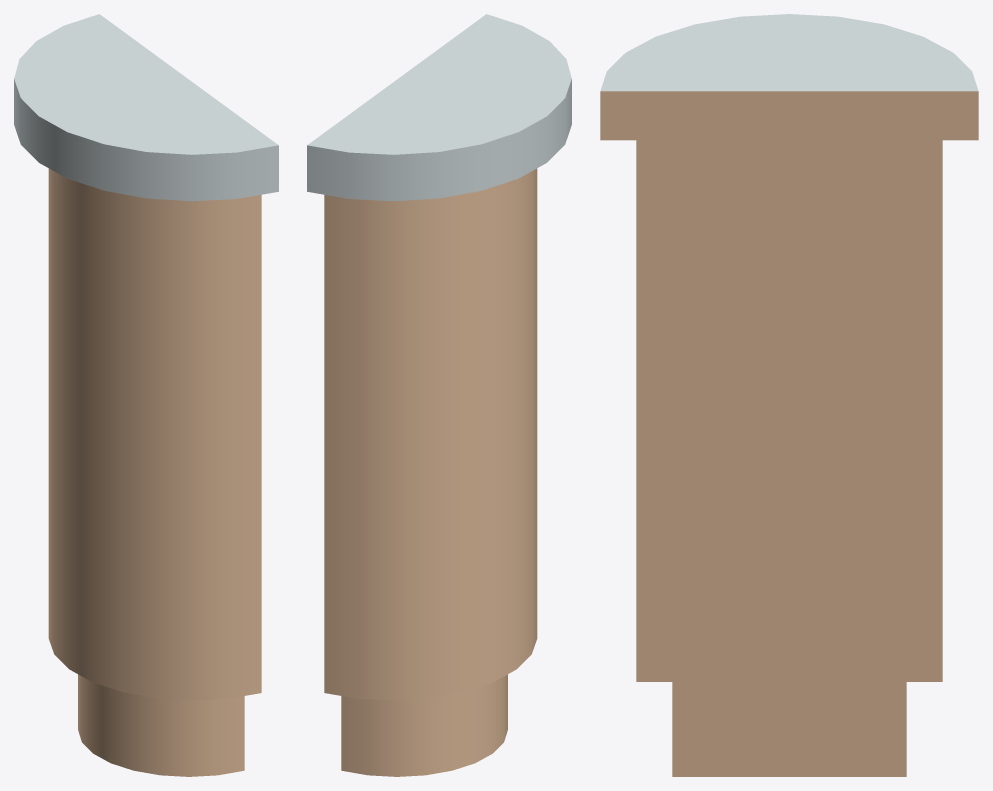
Rendered from kitchenBarEnd.glb.
3 renders of one model, left to right at view 1: azimuth 30°, elevation 25°; view 2: azimuth 150°, elevation 25°; view 3: azimuth 270°, elevation 25°, orthographic. The views are drawn at different scales.
Parts seen in each view (by area): view 1: kitchenBarEnd(Clone); view 2: kitchenBarEnd(Clone); view 3: kitchenBarEnd(Clone).
Part boxes in pixels (x1,y1,x2,y2): kitchenBarEnd(Clone): (14, 14, 278, 776); kitchenBarEnd(Clone): (307, 14, 571, 776); kitchenBarEnd(Clone): (600, 14, 978, 776).
Bounding box in the file's own units: 0.2062 × 0.8526 × 0.4263.
Materials: 2 (2 with a texture image).
